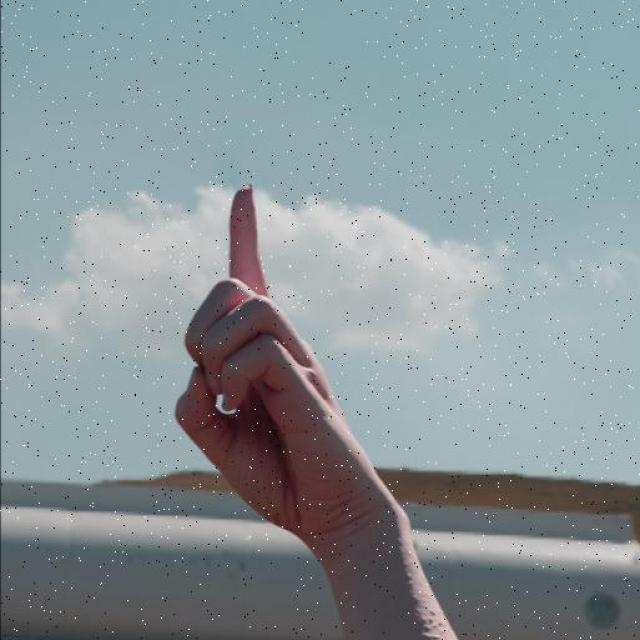D: (167, 172, 371, 548)
